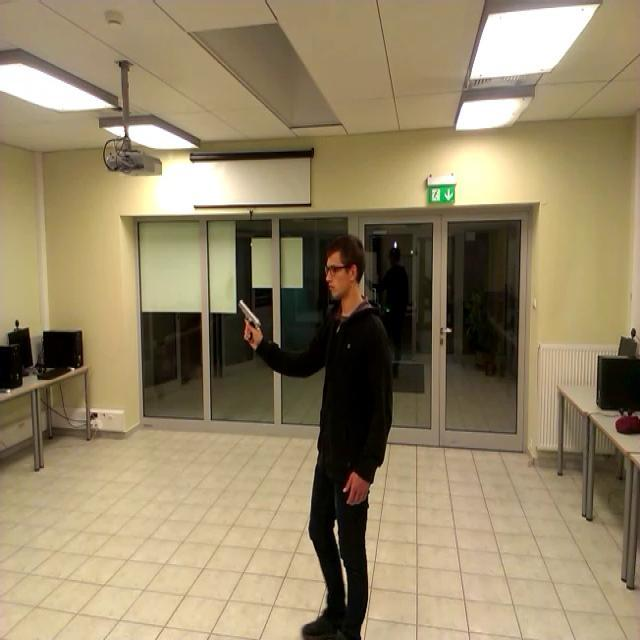Gun: (229, 292, 273, 351)
